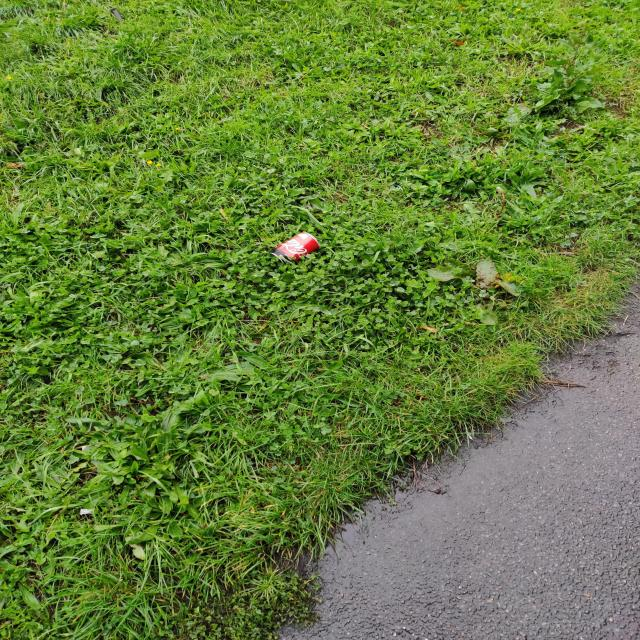litter: (273, 234, 320, 262)
